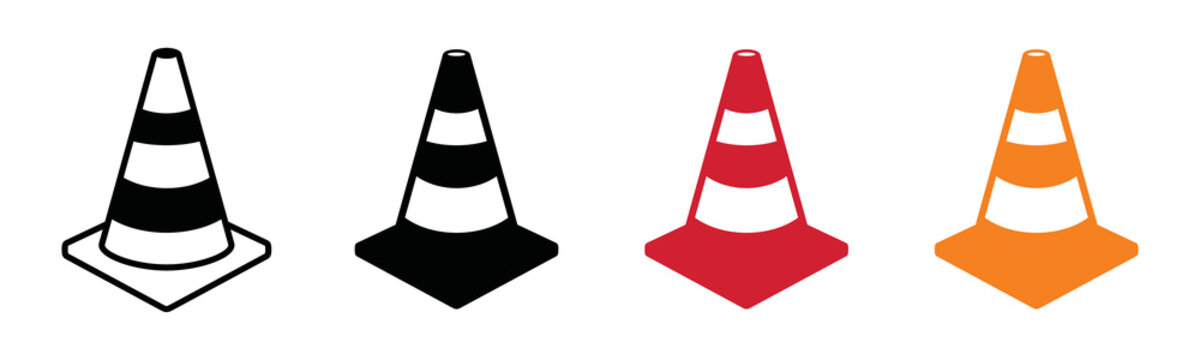Road_cone: (638, 47, 872, 308), (347, 42, 567, 316), (58, 39, 278, 312), (935, 52, 1150, 311)
